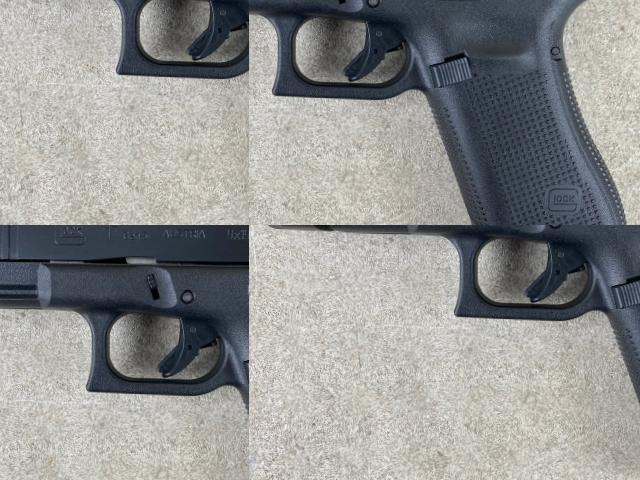handgun: (249, 225, 640, 480), (249, 0, 446, 154), (6, 0, 145, 39), (0, 225, 39, 271)
